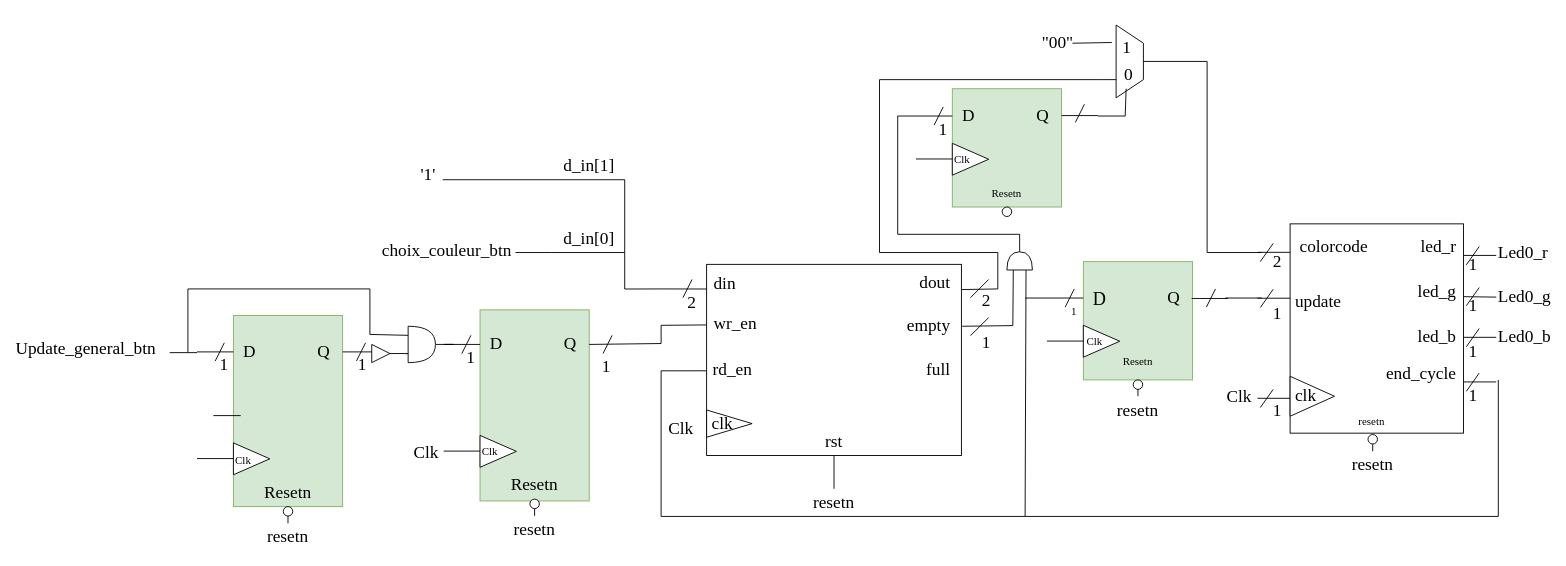
This 1566x566 diagram has some shape labels left out. The box of each missing label's shape, as (x1, y1, x2, y2) in pixels:
FIFO: (706, 263, 961, 455)
Led_driver: (1289, 223, 1463, 433)
